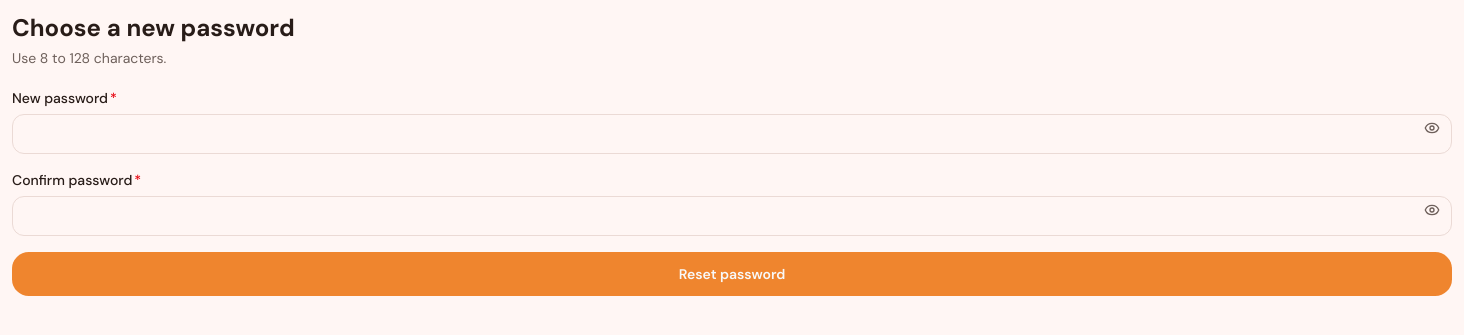
ResetPasswordForm › enforces length and matching passwords
This screenshot has width=1464, height=335.
Type "short" into the password field labelled "New password*".
click(732, 134); type("short")  # box [12, 114, 1452, 154]
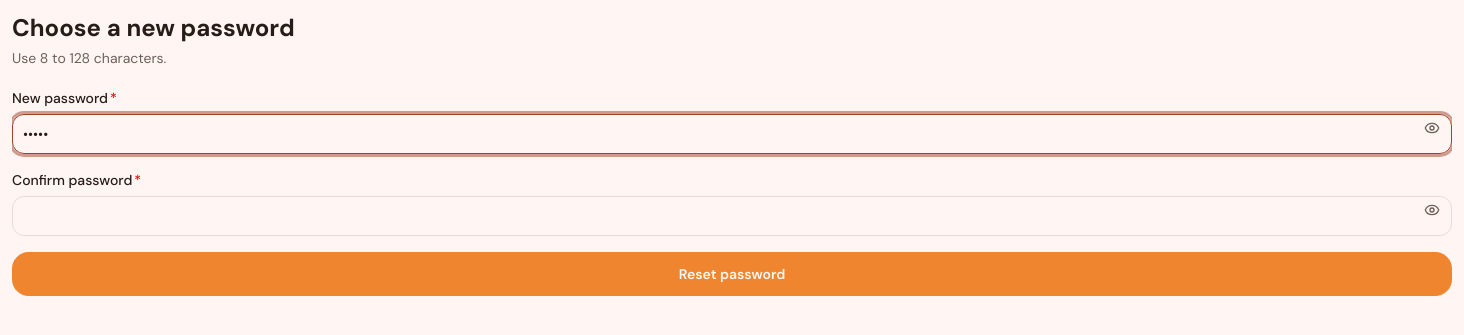
Type "short" into the password field labelled "Confirm password*".
click(732, 216); type("short")  # box [12, 196, 1452, 236]
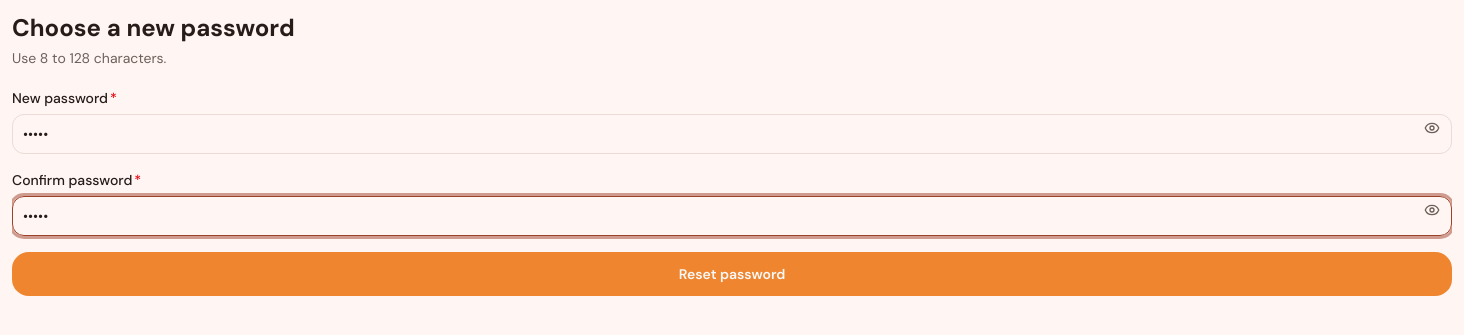
Click the button "Reset password".
click(732, 274)  # box [12, 252, 1452, 296]
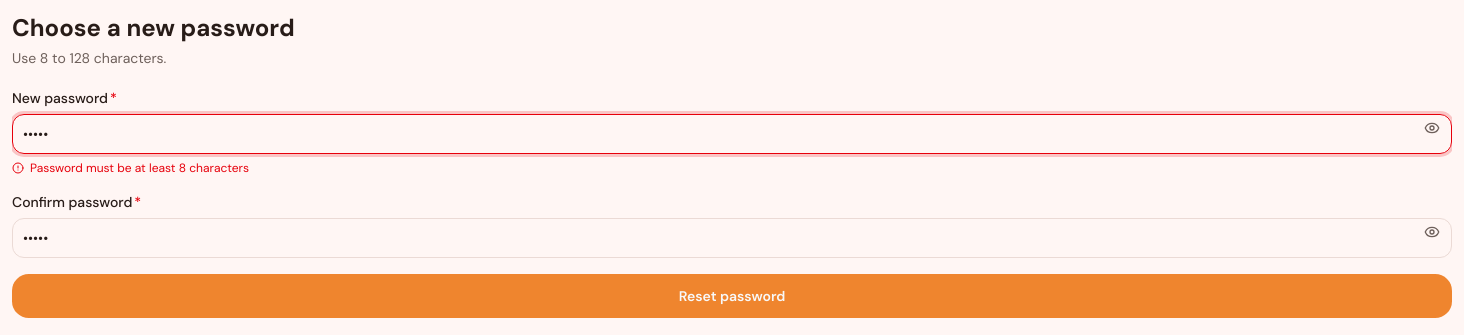
Check: the text "Password must be at least 8 characters" is shown, box [12, 160, 249, 176]
Type "longenough1" into the password field labelled "New password*".
click(732, 134); type("longenough1")  # box [12, 114, 1452, 154]
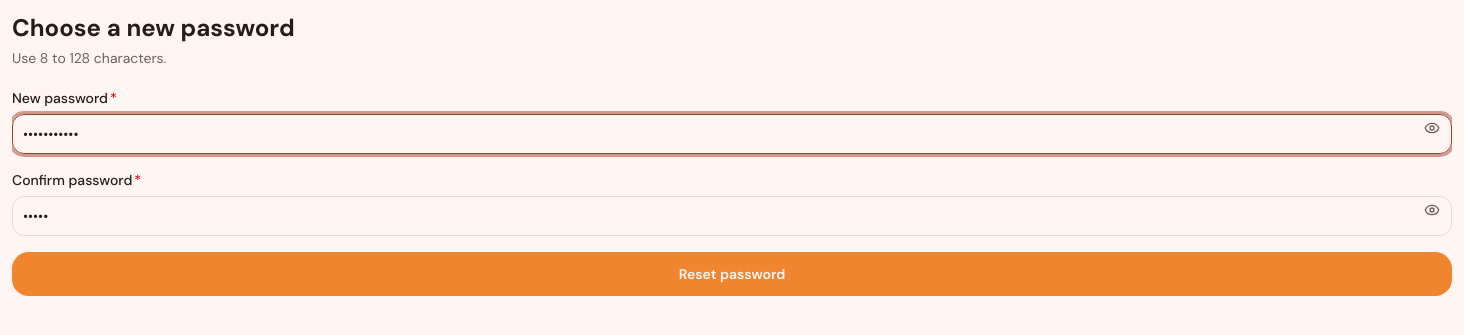
Click the button "Reset password".
click(732, 274)  # box [12, 252, 1452, 296]
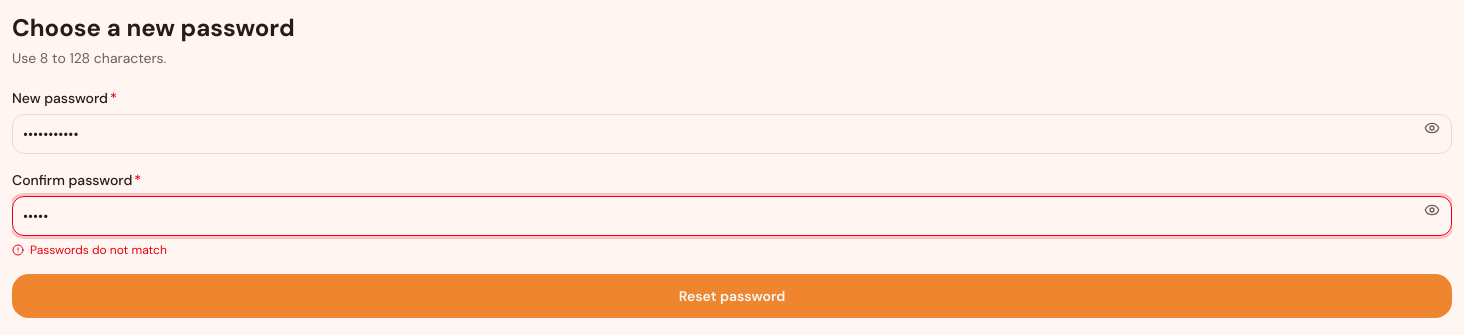
Check: the text "Passwords do not match" is shown, box [12, 242, 167, 258]
